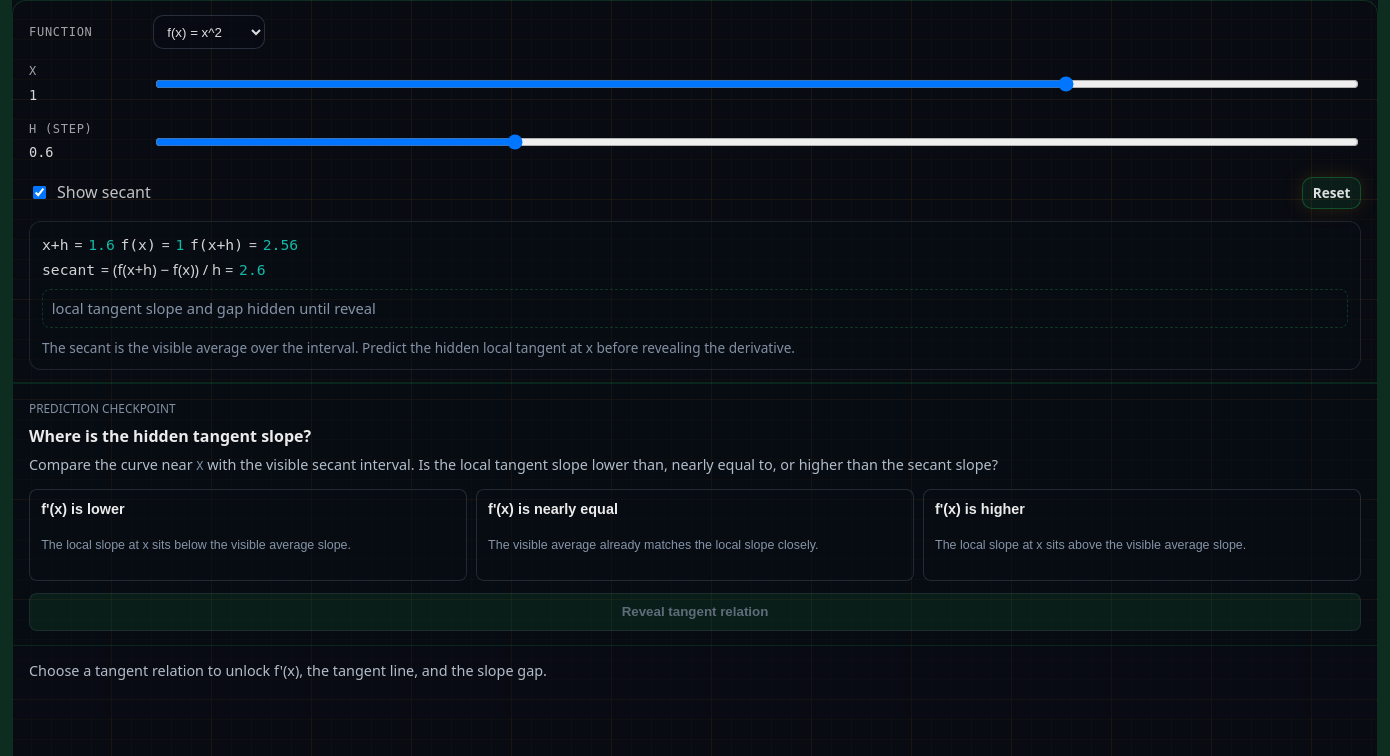
Test: DerivativesViz tangent relation reveal › clears stale tangent reveal when h or function changes
Click the button "f'(x) is lower". click: (248,535)
box: [29,489,467,581]
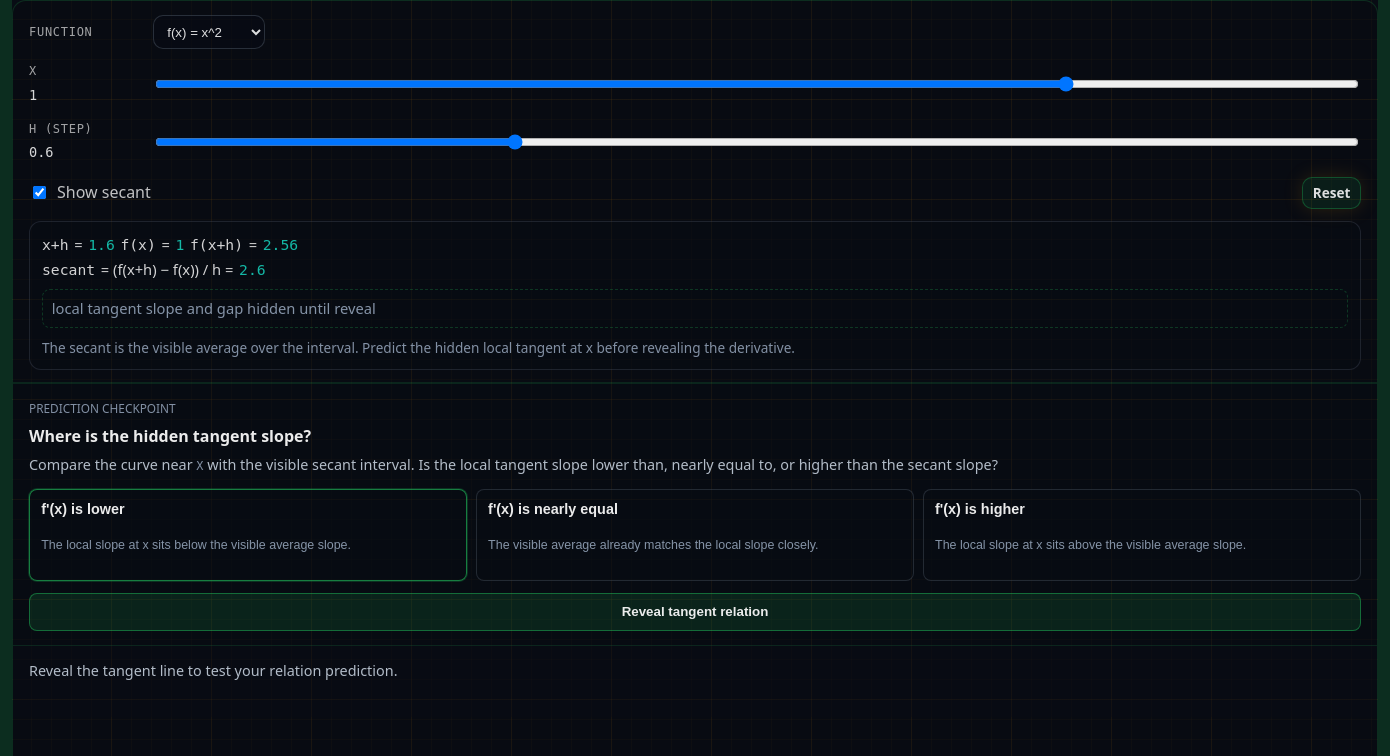
Click the button "Reveal tangent relation". click: (695,612)
box: [29,593,1361,631]
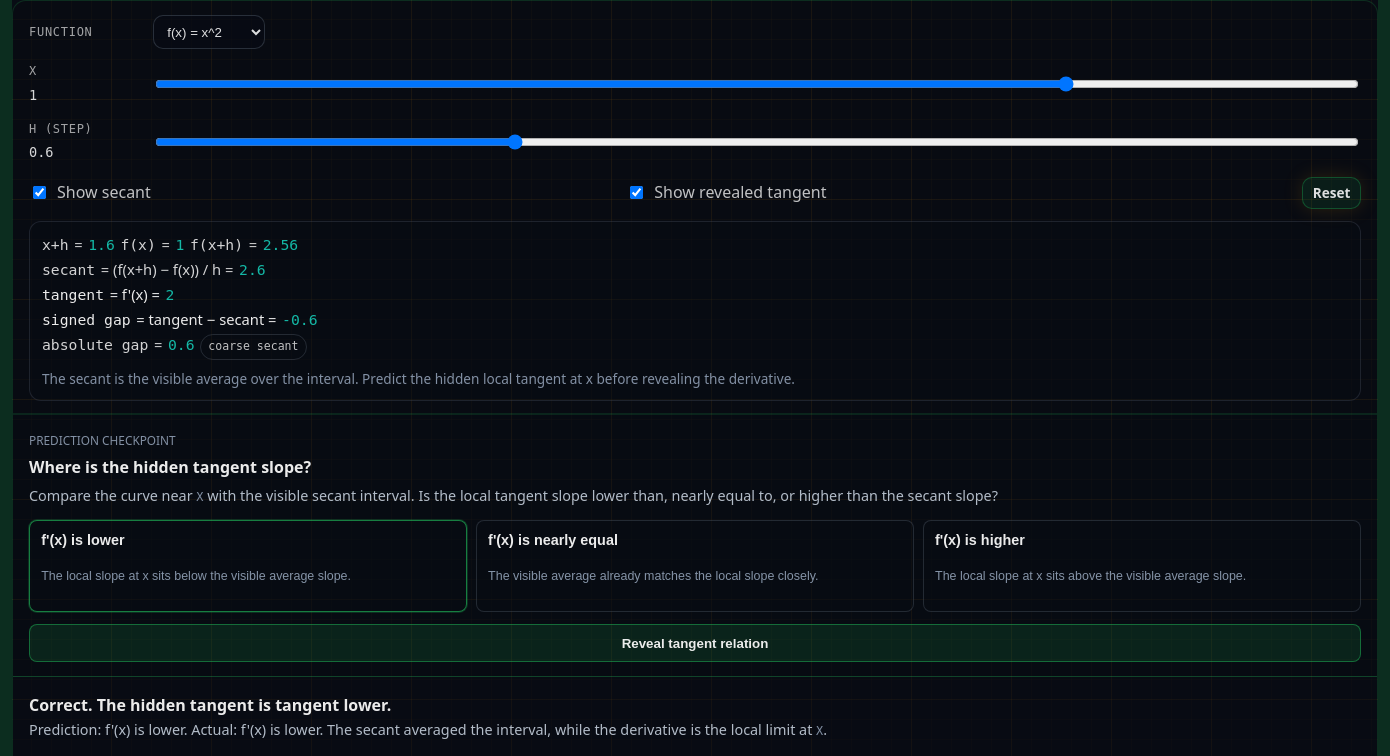
Expected: the heading "Correct. The hidden tangent is tangent lower." is shown, [29,694,391,716]
Set the slider named "h (step)" to "0.2". click: (277,142)
box: [155,134,1359,150]
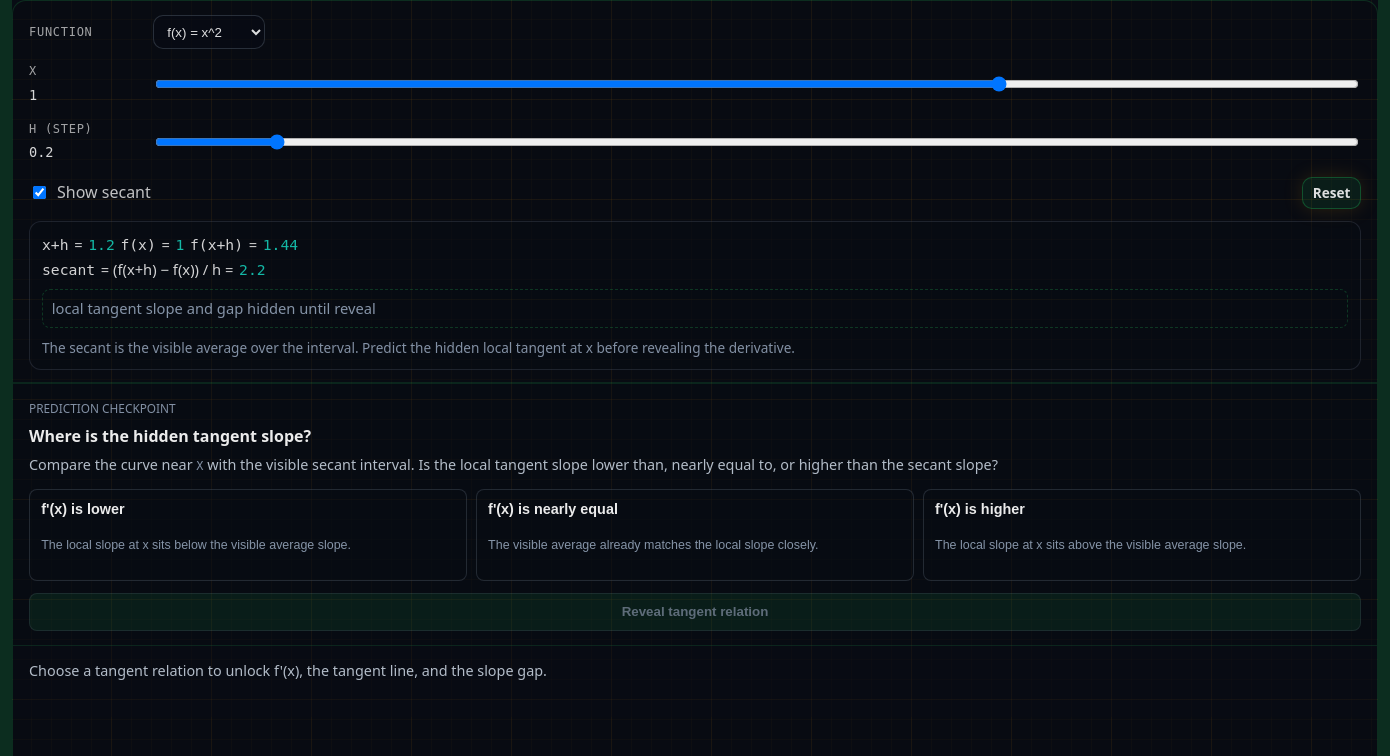
Expected: the heading "Correct." is gone
Expected: the text "tangent = f'(x) =" is gone
Expected: the button "Reveal tangent relation" is disabled, [29,593,1361,631]
Click the button "f'(x) is lower". click: (248,535)
box: [29,489,467,581]
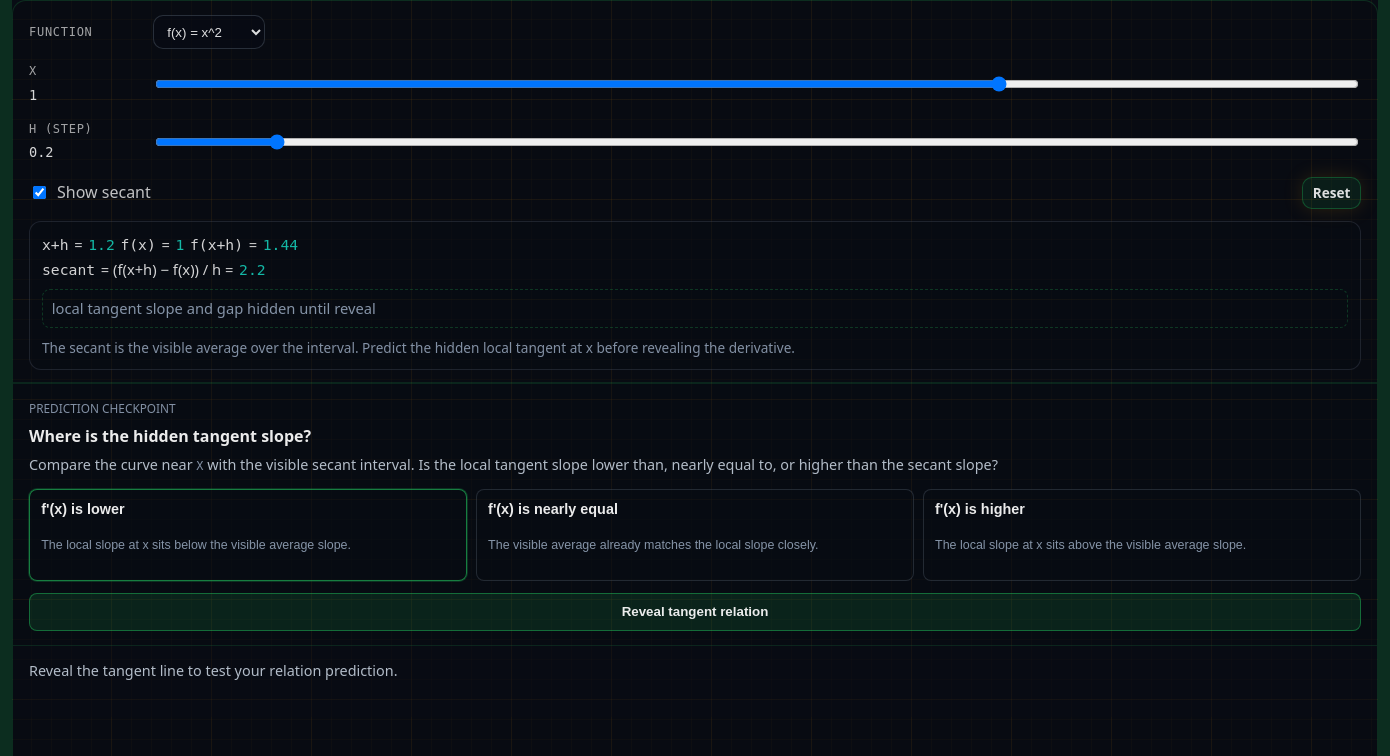
Click the button "Reveal tangent relation". click: (695,612)
box: [29,593,1361,631]
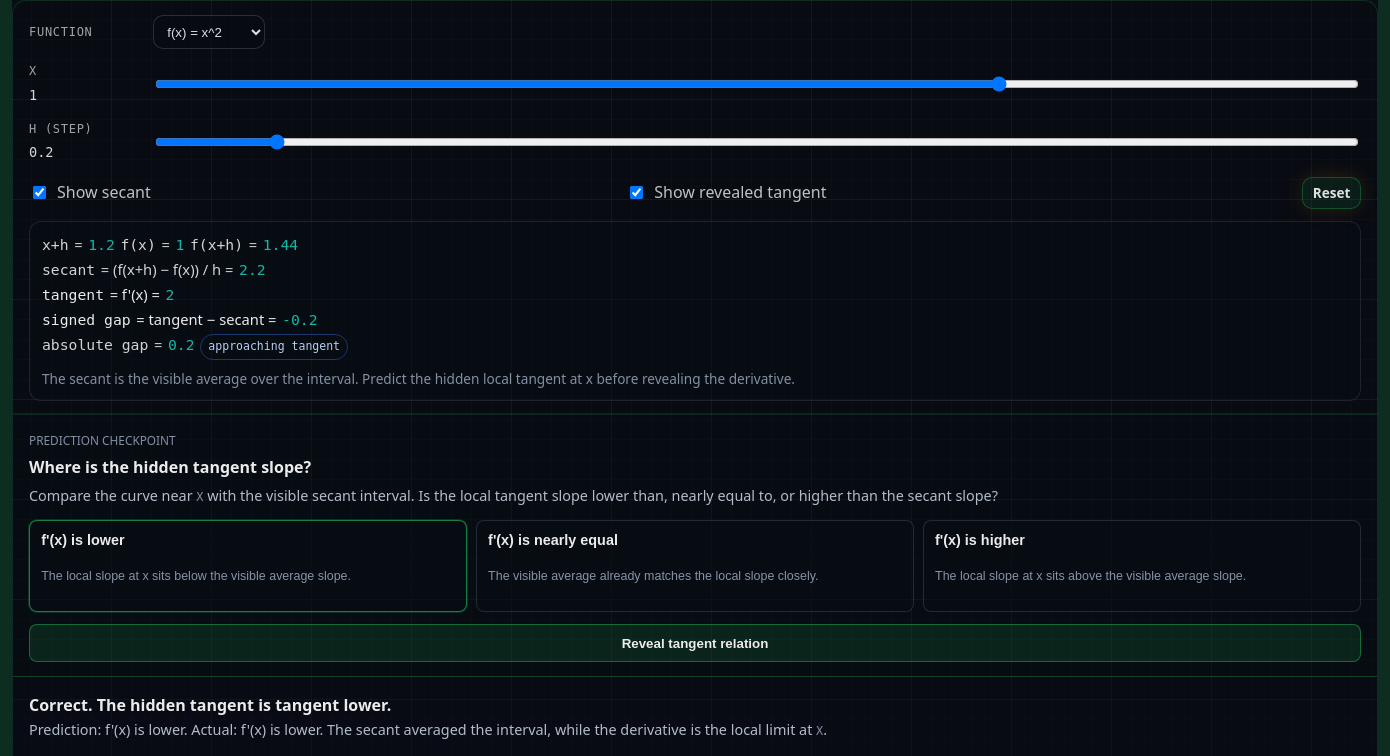
Expected: the heading "Correct. The hidden tangent is tangent lower." is shown, [29,694,391,716]
Select "f(x) = sin(x)" in the dropdown labelled "Function". click: (209,32)
box: [153,15,265,49]
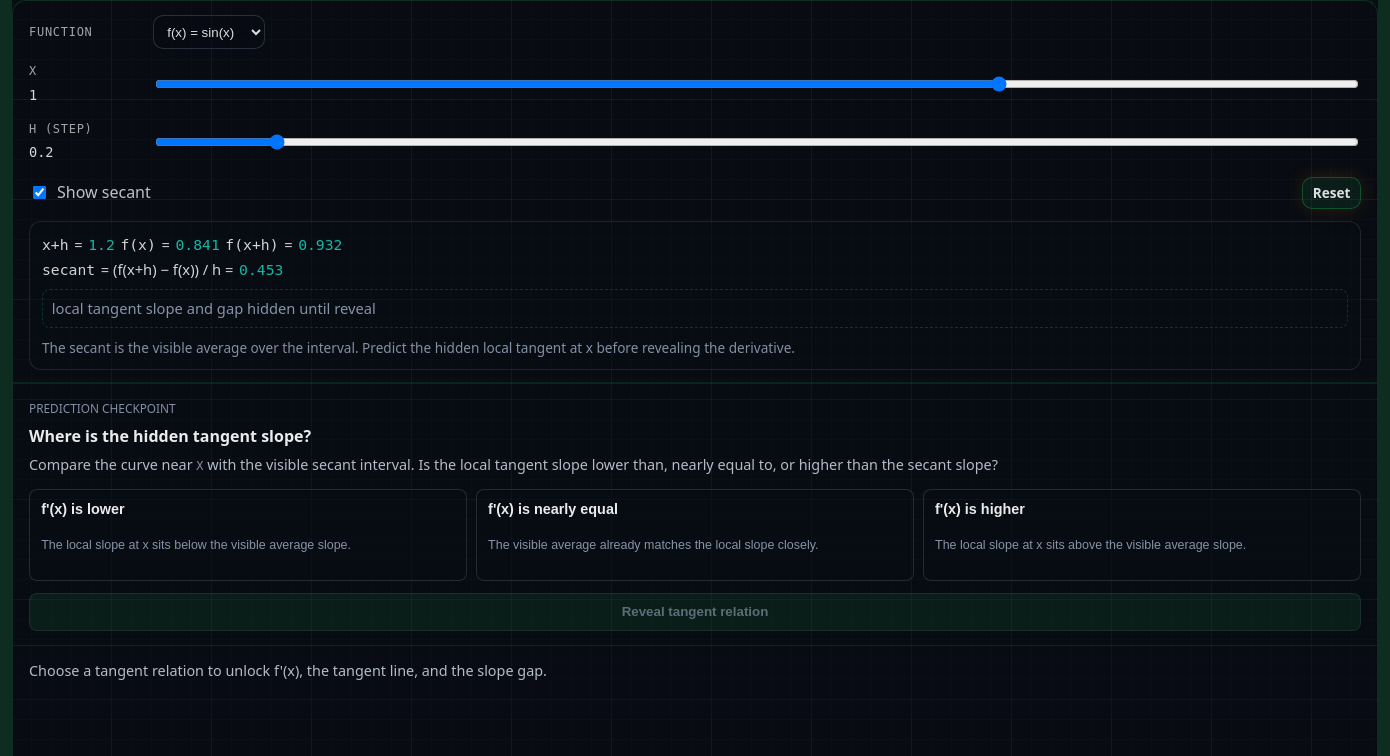
Expected: the heading "Correct. The hidden tangent is tangent lower." is gone
Expected: the text "tangent = f'(x) =" is gone
Expected: the button "Reveal tangent relation" is disabled, [29,593,1361,631]
